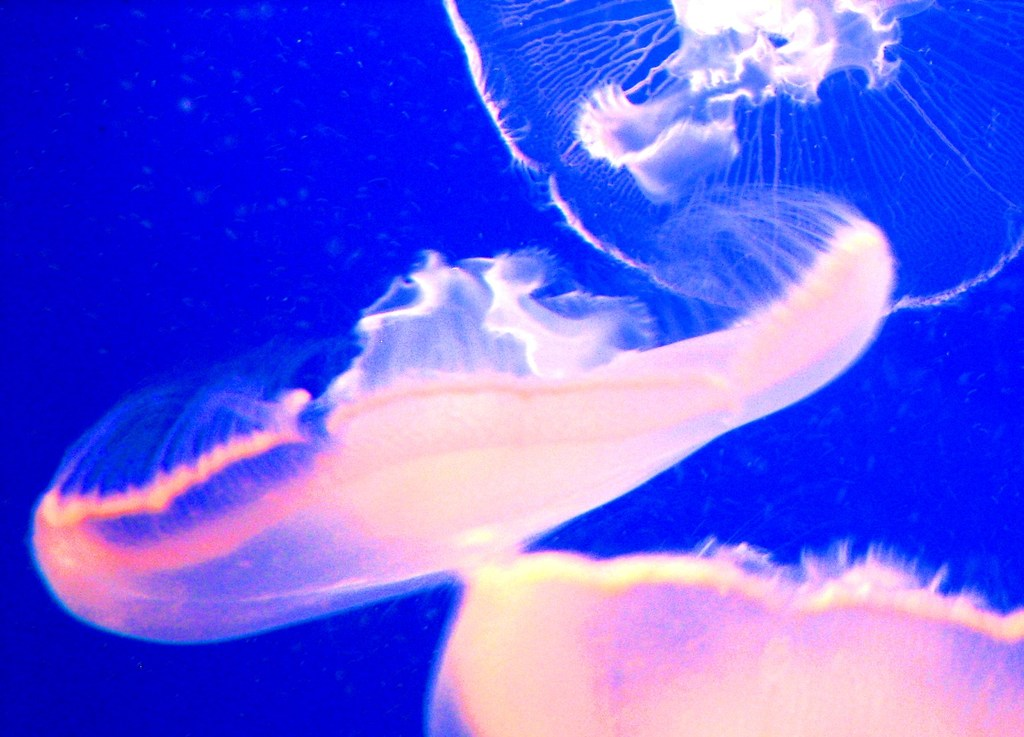Jellyfish: (31, 182, 897, 651), (436, 0, 1023, 314), (420, 536, 1023, 736)
